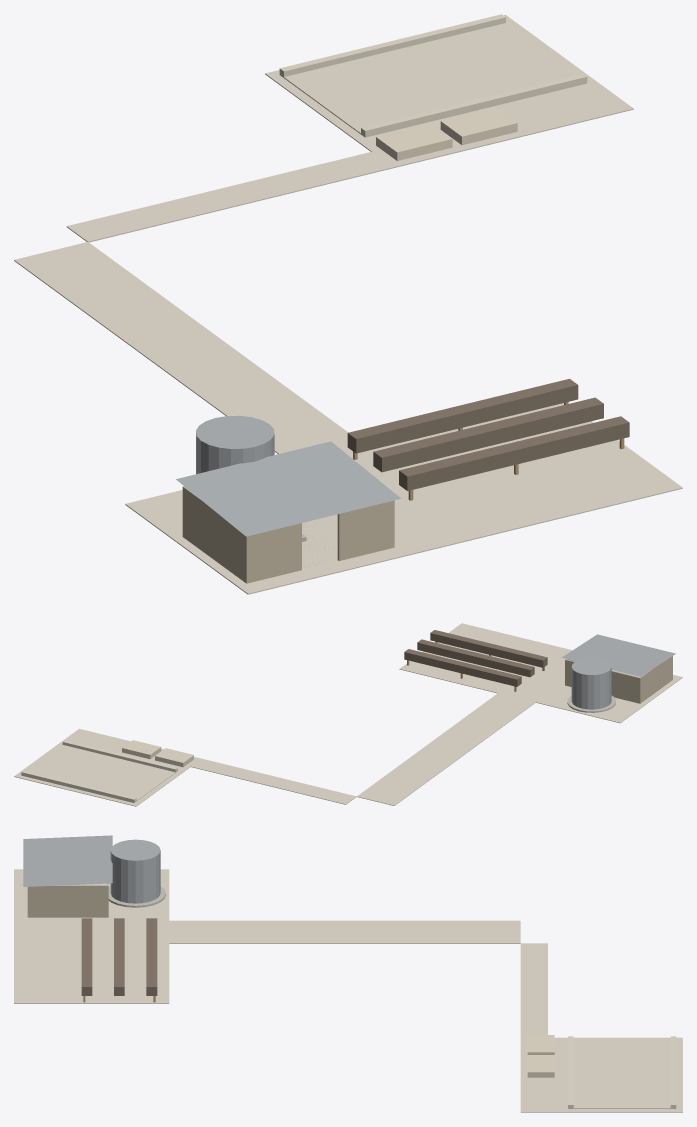
The model's file is infrastructure.lod1.glb.
The picture shows the model from 3 angles, top to bottom: view 1: azimuth 30°, elevation 25°; view 2: azimuth 150°, elevation 25°; view 3: azimuth 270°, elevation 25°; orthographic projection. The views are drawn at different scales.
Bounding box in the file's own units: 42.5 × 3.7 × 49.5.
